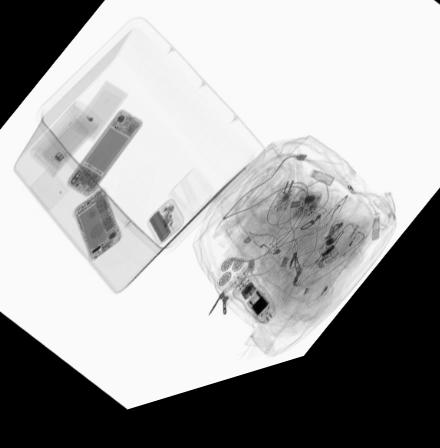Lighter: (336, 246, 363, 279)
